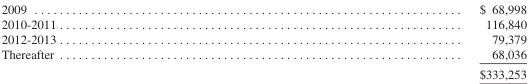table: (0, 1, 525, 80)
table column: (0, 1, 267, 80), (267, 1, 525, 80)
table row: (0, 46, 525, 63), (0, 63, 525, 80), (0, 30, 525, 46), (0, 15, 525, 30), (0, 1, 525, 15)
